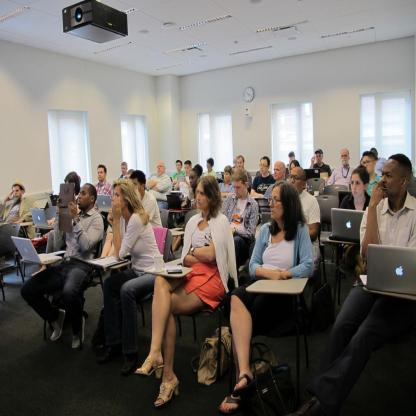board: (367, 239, 415, 302), (12, 236, 62, 264), (331, 208, 364, 239), (29, 207, 54, 229), (166, 195, 192, 212), (96, 194, 112, 212), (304, 168, 320, 182), (44, 192, 54, 208), (261, 213, 272, 226)
